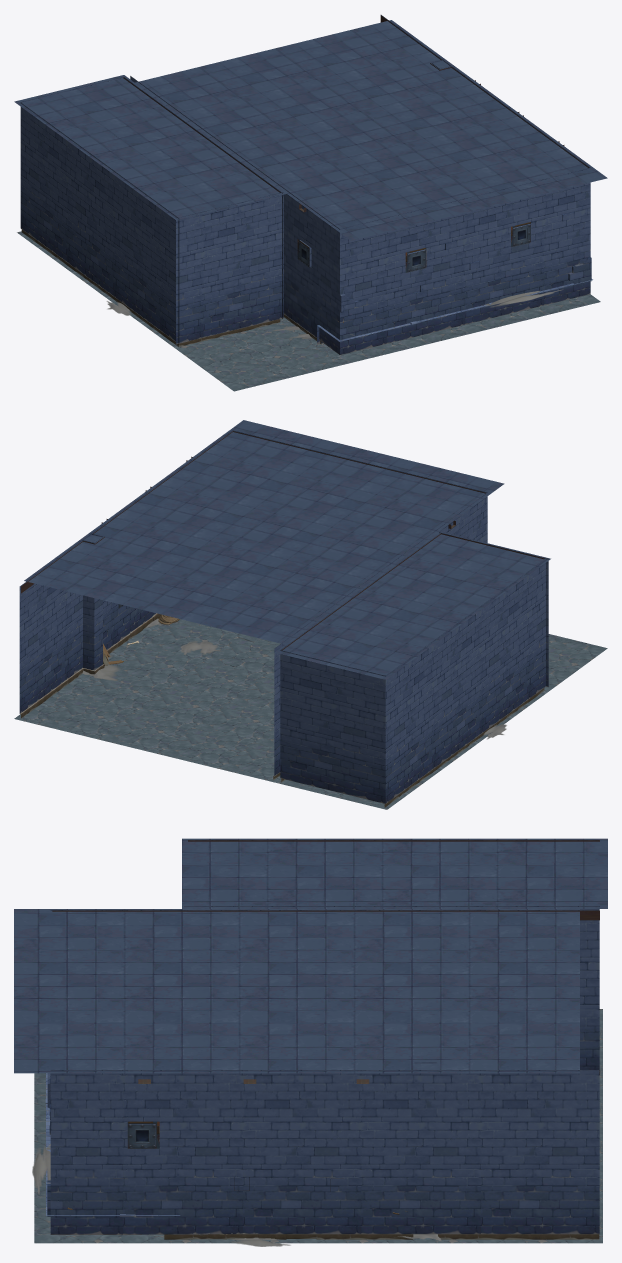
Rendered from stage.glb.
3 renders of one model, top to bottom at view 1: azimuth 30°, elevation 25°; view 2: azimuth 150°, elevation 25°; view 3: azimuth 270°, elevation 25°, orthographic. The views are drawn at different scales.
Parts seen in each view (by area): view 1: KORE_export_SHJY_Room_03_01[Combined], KORE_export_SHJY_Room_03_03[Combined], KORE_export_SHJY_Room_03_02_1[Combined]; view 2: KORE_export_SHJY_Room_03_01[Combined], KORE_export_SHJY_Room_03_03[Combined], KORE_export_SHJY_Room_03_02_1[Combined]; view 3: KORE_export_SHJY_Room_03_03[Combined], KORE_export_SHJY_Room_03_01[Combined], KORE_export_SHJY_Room_03_02_1[Combined].
Boxes of the visible parts, x1,y1,x2,y2 form: KORE_export_SHJY_Room_03_01[Combined]: (17, 15, 600, 391); KORE_export_SHJY_Room_03_03[Combined]: (14, 20, 607, 240); KORE_export_SHJY_Room_03_02_1[Combined]: (106, 222, 563, 339); KORE_export_SHJY_Room_03_01[Combined]: (14, 430, 607, 809); KORE_export_SHJY_Room_03_03[Combined]: (24, 420, 550, 679); KORE_export_SHJY_Room_03_02_1[Combined]: (82, 604, 506, 739); KORE_export_SHJY_Room_03_03[Combined]: (14, 838, 607, 1073); KORE_export_SHJY_Room_03_01[Combined]: (34, 840, 602, 1243); KORE_export_SHJY_Room_03_02_1[Combined]: (32, 1121, 441, 1246).
Size of the model in its own units: 17.93 by 5.78 by 18.
5 materials, 5 textured.
